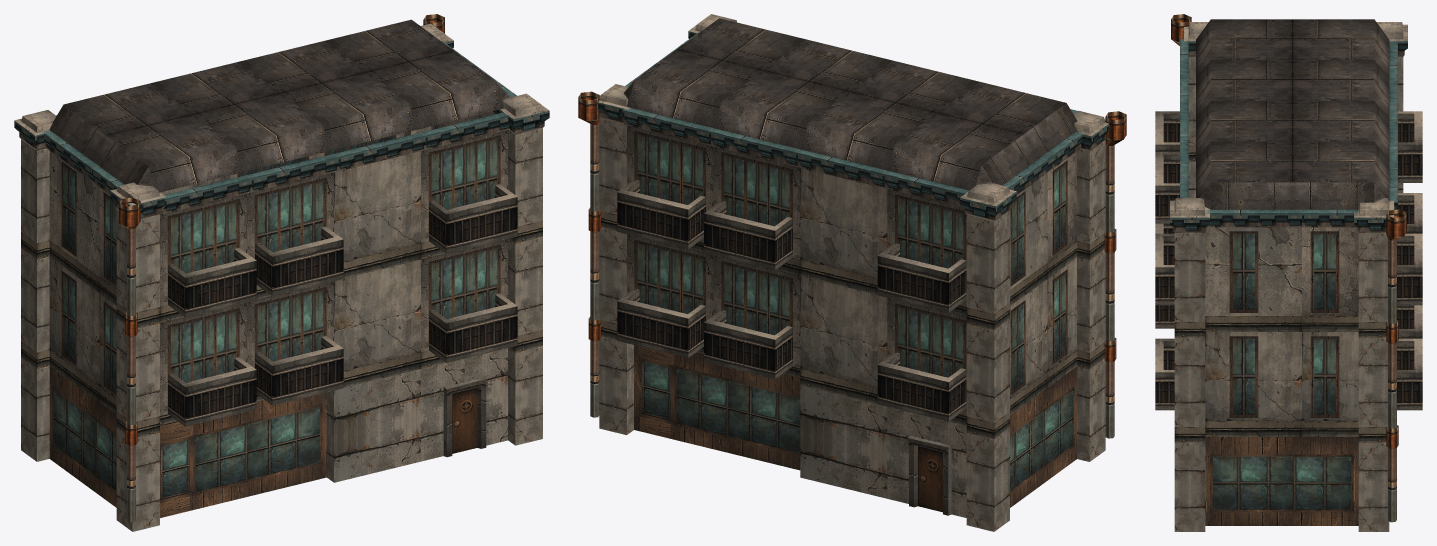
Rendered from building_4.fbx.
The picture shows the model from 3 angles, left to right: view 1: azimuth 30°, elevation 25°; view 2: azimuth 150°, elevation 25°; view 3: azimuth 270°, elevation 25°; orthographic projection. The views are drawn at different scales.
Parts seen in each view (by area): view 1: building_4; view 2: building_4; view 3: building_4.
Boxes of the visible parts, x1,y1,x2,y2 form: building_4: (14,14,549,531); building_4: (578,14,1126,531); building_4: (1155,14,1422,531).
Bounding box in the file's own units: 15 × 11.54 × 8.31.
